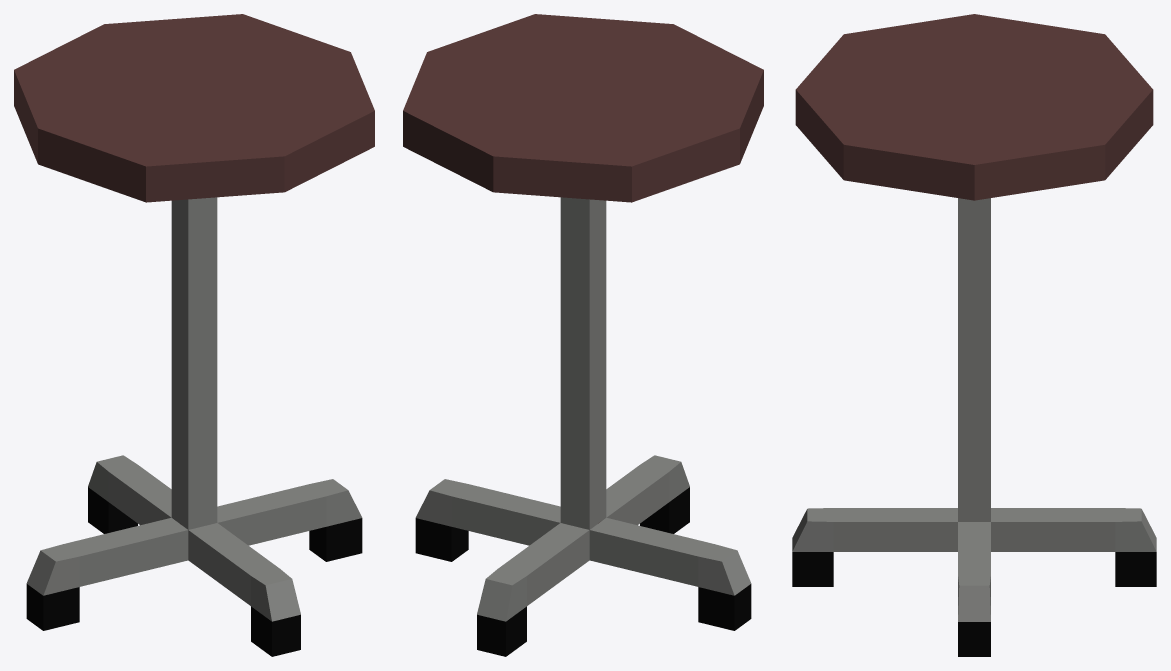
The model's file is Stool.fbx.
3 renders of one model, left to right at view 1: azimuth 30°, elevation 25°; view 2: azimuth 150°, elevation 25°; view 3: azimuth 270°, elevation 25°, orthographic.
Visible parts, largest first — view 1: Stool; view 2: Stool; view 3: Stool.
Boxes of the visible parts, box(x1,y1,x2,y2) form: Stool: box(14, 14, 374, 656); Stool: box(403, 14, 763, 656); Stool: box(792, 14, 1156, 656).
Bounding box in the file's own units: 241 × 358 × 241.
